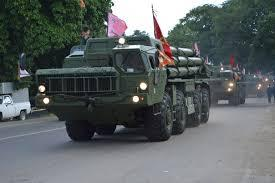MIL_SAM_TEL: (32, 27, 210, 137)
